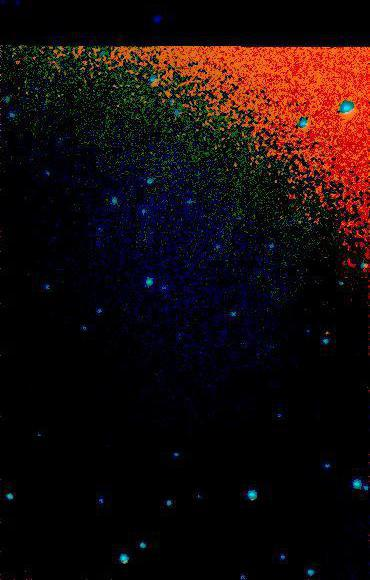star: (311, 317, 341, 347)
